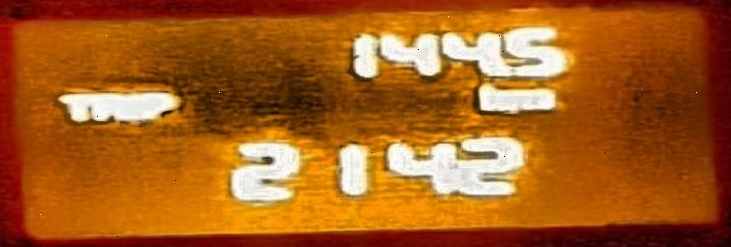1: (333, 139, 370, 198), (346, 32, 378, 79)
2: (226, 140, 303, 203), (454, 135, 526, 194)
4: (383, 140, 457, 195), (439, 31, 502, 76), (380, 30, 439, 77)
5: (504, 25, 568, 77)
X: (509, 85, 556, 112), (475, 82, 510, 114), (142, 90, 178, 120), (91, 92, 126, 122), (56, 93, 90, 122), (127, 91, 141, 122)
